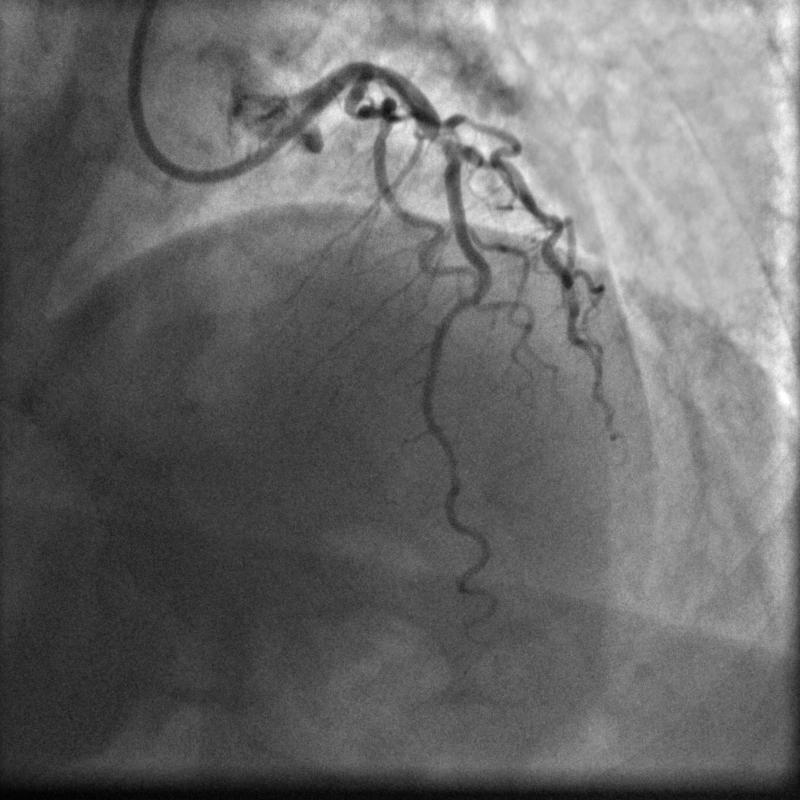Stenosis: (425, 129, 476, 154)
